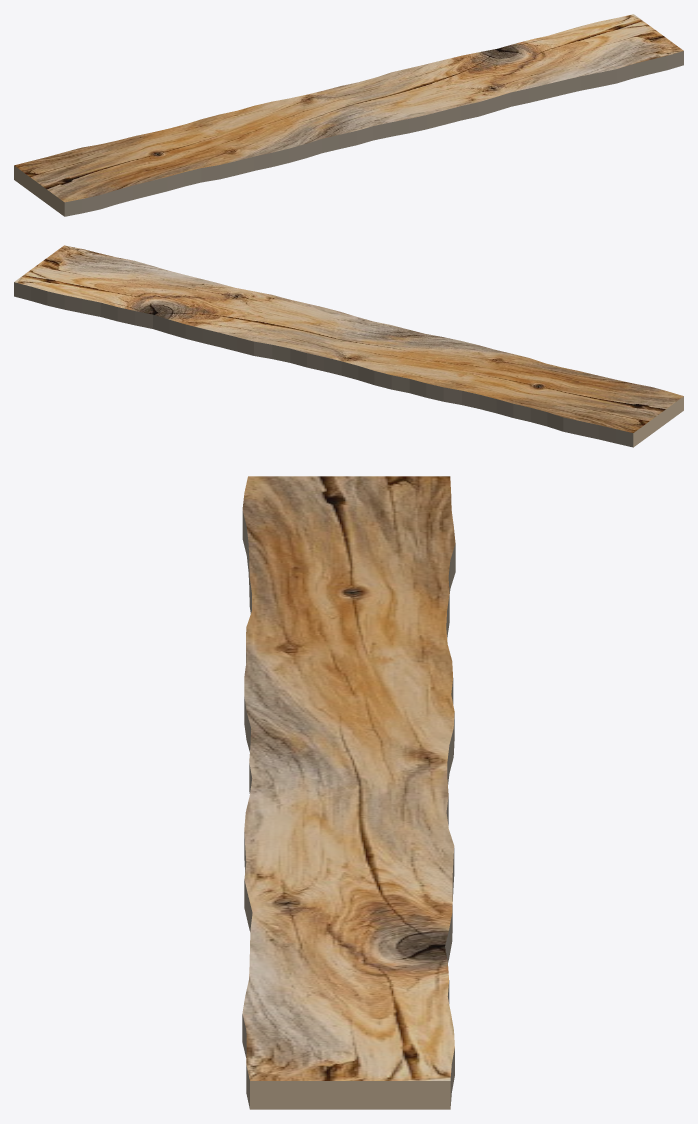
3 renders of one model, top to bottom at view 1: azimuth 30°, elevation 25°; view 2: azimuth 150°, elevation 25°; view 3: azimuth 270°, elevation 25°, orthographic. The views are drawn at different scales.
Parts seen in each view (by area): view 1: KM-001; view 2: KM-001; view 3: KM-001.
Boxes of the visible parts, x1=… form: KM-001: x1=14, y1=14, x2=683, y2=216; KM-001: x1=14, y1=245, x2=683, y2=447; KM-001: x1=242, y1=476, x2=455, y2=1109.
Bounding box in the file's own units: 1.8 × 0.04 × 0.2682.
Materials: 3 (1 with a texture image).
